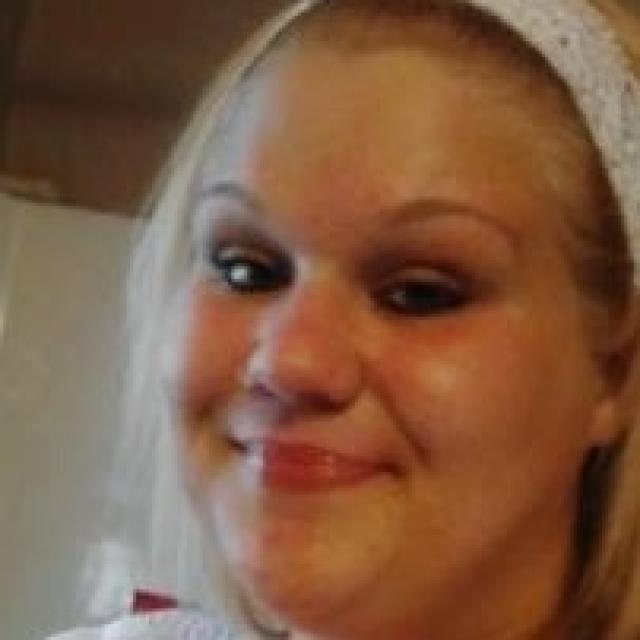Normal: (163, 30, 595, 620)
